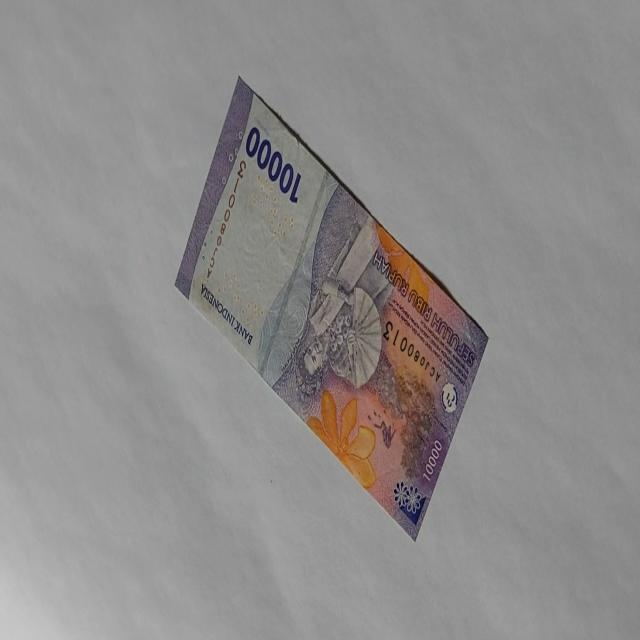sepuluh ribu rupiah: (173, 74, 490, 542), (244, 123, 302, 204), (198, 280, 254, 348)
